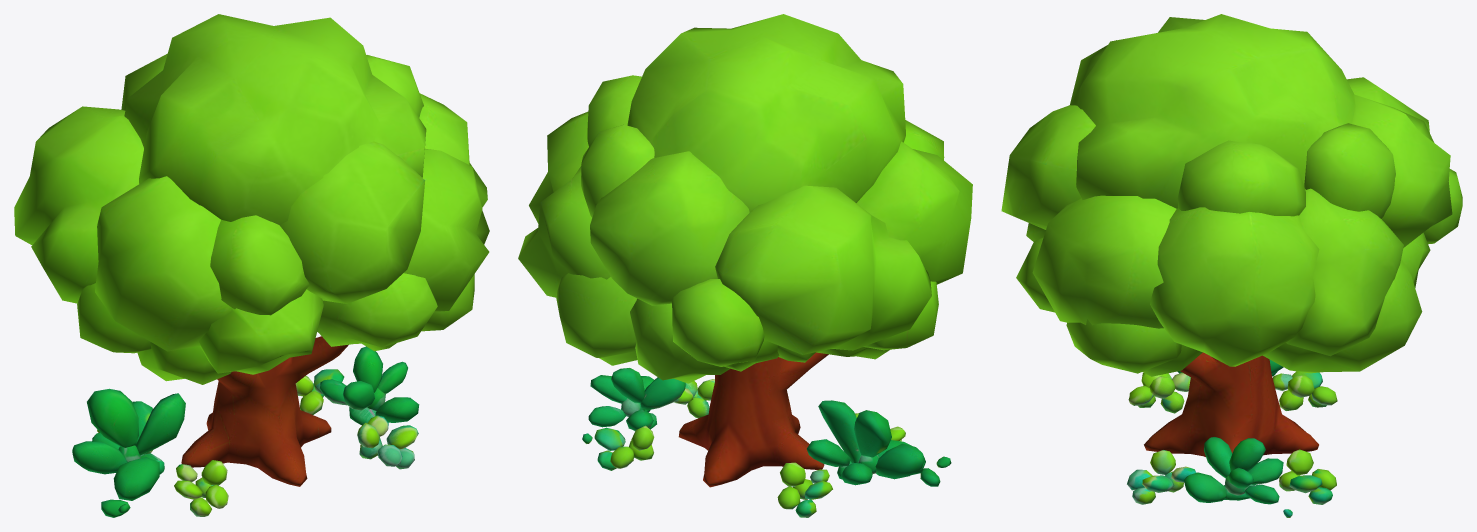
File: r3c5_round_green_tree.glb
3 renders of one model, left to right at view 1: azimuth 30°, elevation 25°; view 2: azimuth 150°, elevation 25°; view 3: azimuth 270°, elevation 25°, orthographic. The views are drawn at different scales.
Size of the model in its own units: 1 by 1 by 0.9844.
1 material, 1 textured.
